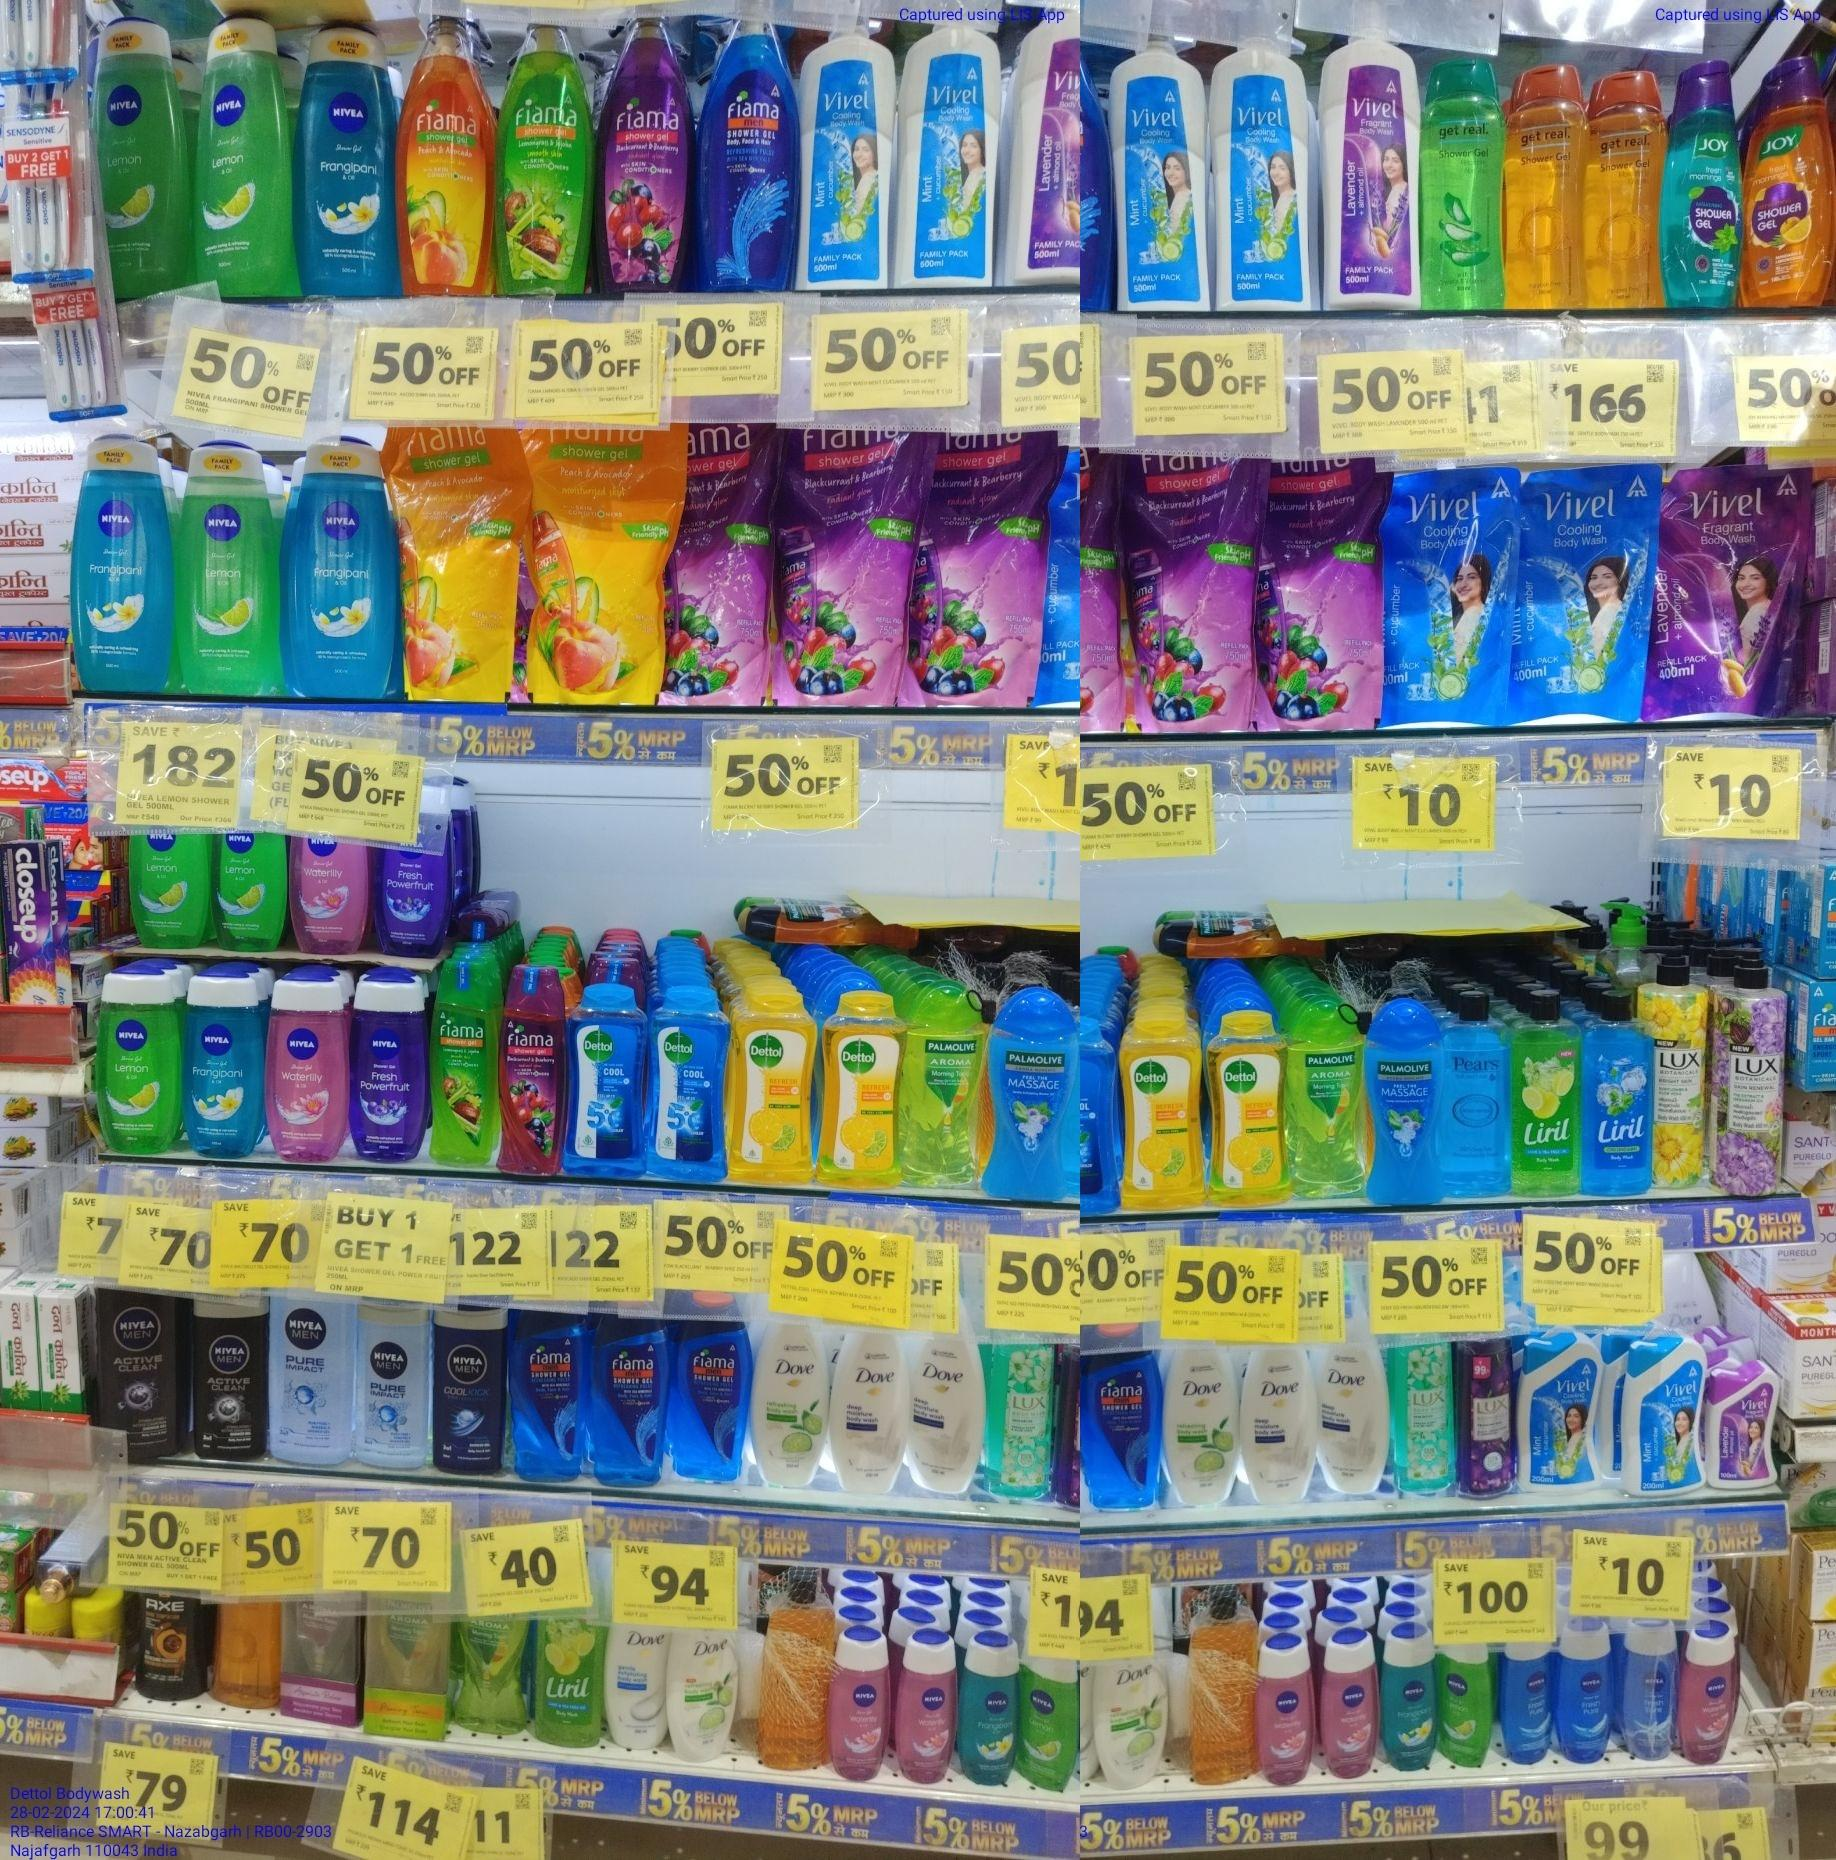Dettol_Bodywash_Cool: (651, 987, 728, 1181), (572, 985, 646, 1181)
Dettol_Bodywash_Refresh: (735, 985, 815, 1187), (1126, 1007, 1199, 1216), (826, 991, 900, 1189), (1209, 1019, 1285, 1209)
Dove_Deep_Moisture_Body_Wash_250ML: (832, 1330, 908, 1493), (1248, 1344, 1315, 1507), (911, 1342, 984, 1493), (1322, 1335, 1389, 1497)
Dove_Gentle_Exfoliating_Body_Wash_250ML: (610, 1623, 667, 1751)
Dove_Refreshing_Body_Wash_250ML: (1167, 1350, 1239, 1514), (758, 1320, 824, 1487), (1100, 1660, 1169, 1791), (678, 1630, 740, 1759)
Fiama_Shower_Gel_Lemongrass_and_Jojoba_250ML: (435, 957, 496, 1169)
Get_Real_Shower_Gel_Moisturising_Glycerin_300ML: (1506, 59, 1582, 308), (1589, 71, 1661, 308)
Joy_Shower_Gel_Mandarin_and_Lemongrass_250ML: (1749, 55, 1836, 308)
Joy_Shower_Gel_Mint_and_Eucalyptus_250ML: (1666, 62, 1747, 314)
Liril_Cooling_Mint_Body_Wash_250ML: (1585, 987, 1651, 1199)
Liril_Lime_and_Tea_Tree_Oil_Body_Wash_250ML: (1513, 989, 1582, 1197)
Lux_Black_Orchid_Scent_and_Juniper_Oil_Body_Wash_245ML: (1459, 1340, 1517, 1503)
Lux_Body_Wash_Skin_Detox_Freesia_Scent_and_Alove_Vera_245ML: (987, 1345, 1056, 1503), (1395, 1342, 1456, 1500)
Nivea_Shower_Gel_Frangipani_and_Oil_250ML: (282, 442, 397, 698), (301, 18, 398, 299), (77, 431, 166, 698), (187, 964, 259, 1165), (963, 1638, 1017, 1788), (1385, 1630, 1438, 1774)
Nivea_Shower_Gel_Fresh_Powerfruit_250ML: (355, 984, 424, 1157), (372, 814, 444, 955)
Nivea_Shower_Gel_Lemon_and_Oil_250ML: (195, 15, 293, 299), (91, 15, 187, 289), (177, 437, 277, 696), (101, 972, 177, 1154), (128, 827, 207, 950), (1019, 1650, 1078, 1789), (215, 834, 281, 954), (1439, 1638, 1490, 1769)
Nivea_Shower_Gel_Waterlily_and_Oil_250ML: (271, 972, 348, 1164), (286, 831, 365, 959), (900, 1630, 957, 1781), (1258, 1638, 1315, 1789), (1322, 1628, 1377, 1781), (832, 1633, 886, 1783), (1686, 1618, 1735, 1771)
Palmolive_Aroma_Morning_Tonic_Shower_Gel_250ML: (1291, 1002, 1369, 1204), (908, 984, 984, 1189)
Pears_Pure_Glycerin_and_Mint_Extracts_Body_Wash_250ML: (1446, 991, 1508, 1201)
